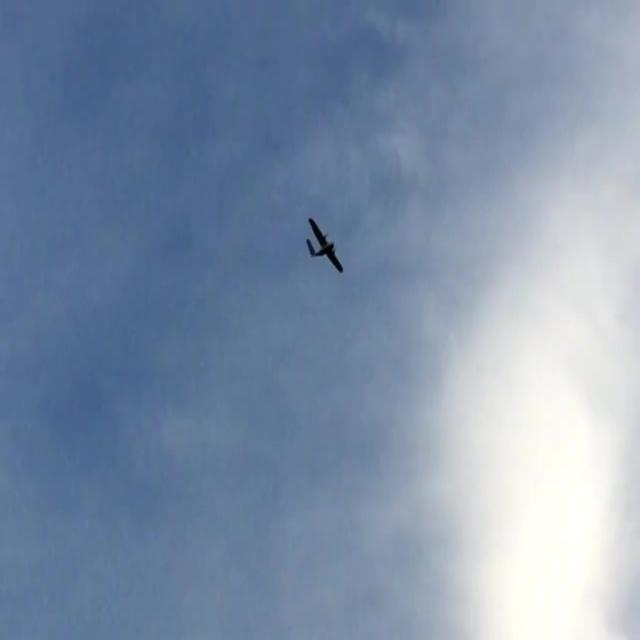iha: (306, 218, 343, 273)
